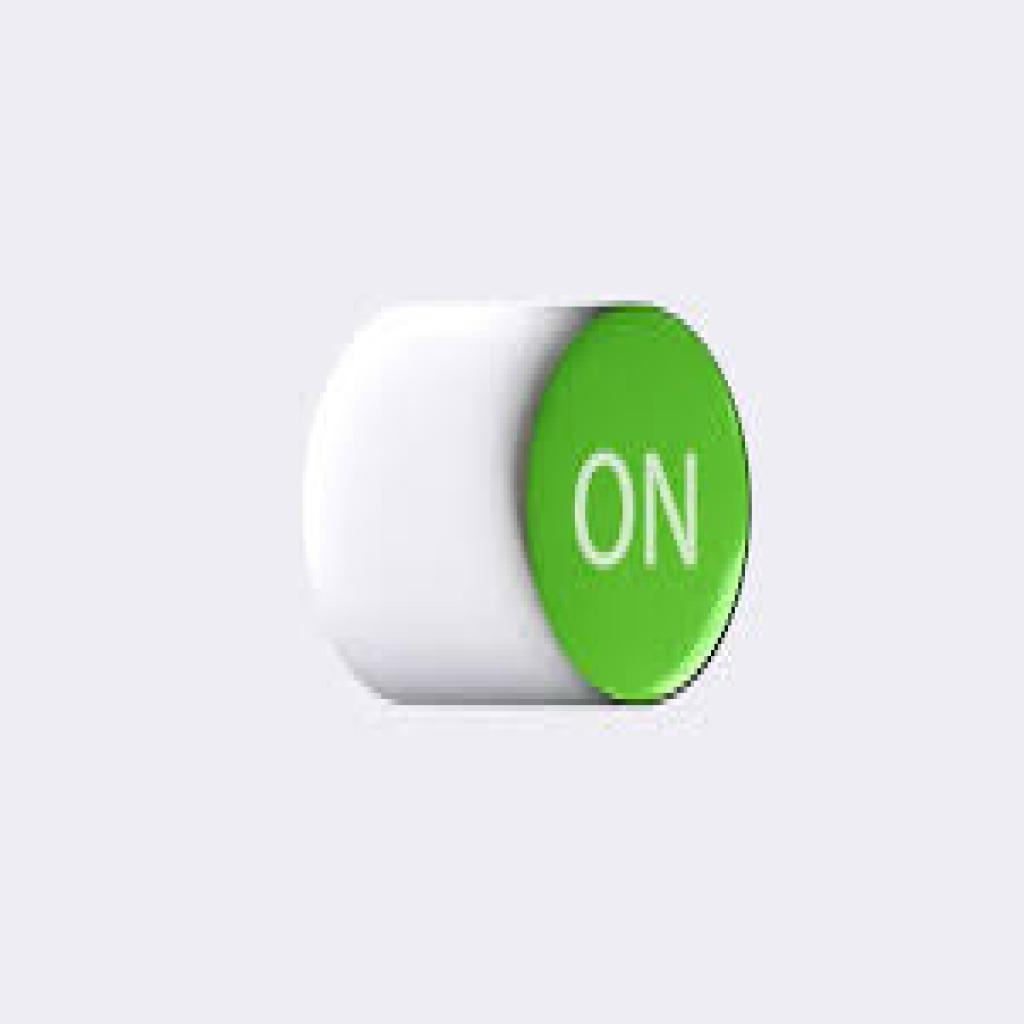switch: (294, 304, 752, 705)
